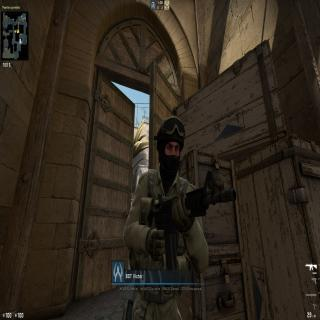CT-Head: (152, 115, 186, 177)
